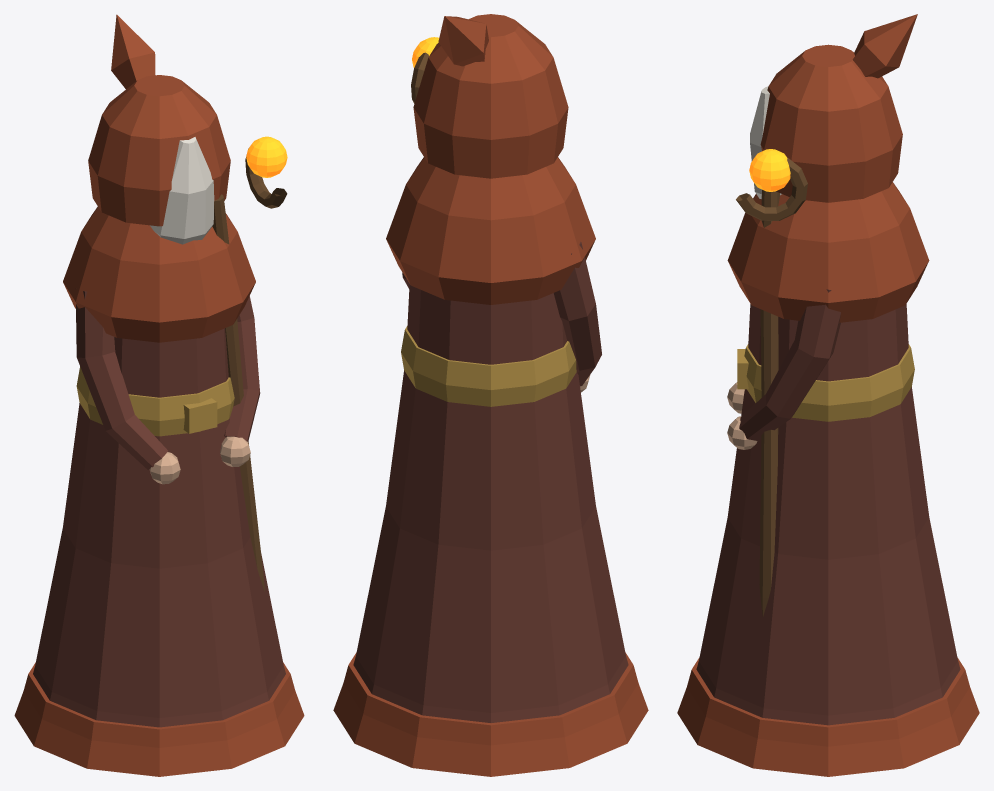
File: elder_village.glb
The picture shows the model from 3 angles, left to right: view 1: azimuth 30°, elevation 25°; view 2: azimuth 150°, elevation 25°; view 3: azimuth 270°, elevation 25°; orthographic projection. The views are drawn at different scales.
Parts seen in each view (by area): view 1: Elder_Robe, Elder_Mantle, Elder_Hem, Elder_Hood, Elder_Arm0, Elder_Beard, Elder_Belt, Elder_Staff, Elder_Arm1, Elder_HoodTip, Elder_Orb, Elder_Buckle (+3 smaller); view 2: Elder_Robe, Elder_Mantle, Elder_Hood, Elder_Hem, Elder_Belt, Elder_Arm0, Elder_HoodTip; view 3: Elder_Robe, Elder_Mantle, Elder_Hood, Elder_Hem, Elder_Arm1, Elder_Belt, Elder_Staff, Elder_HoodTip, Elder_Crook, Elder_Orb, Elder_Beard.
Part boxes in pixels (x1,y1,x2,y2): Elder_Robe: (33, 328, 285, 727); Elder_Mantle: (63, 206, 255, 342); Elder_Hem: (14, 662, 304, 776); Elder_Hood: (88, 75, 230, 226); Elder_Arm0: (75, 288, 167, 469); Elder_Beard: (150, 137, 214, 244); Elder_Belt: (76, 366, 234, 436); Elder_Staff: (212, 194, 264, 591); Elder_Arm1: (224, 296, 260, 442); Elder_HoodTip: (111, 14, 155, 88); Elder_Orb: (246, 136, 287, 177); Elder_Buckle: (183, 398, 217, 433); Elder_Robe: (353, 284, 628, 722); Elder_Mantle: (386, 157, 595, 304); Elder_Hood: (413, 14, 568, 178); Elder_Hem: (333, 652, 648, 776); Elder_Belt: (401, 326, 576, 406); Elder_Arm0: (553, 241, 601, 386); Elder_HoodTip: (438, 16, 488, 66); Elder_Robe: (696, 304, 960, 725); Elder_Mantle: (727, 182, 929, 322); Elder_Hood: (760, 44, 902, 202); Elder_Hem: (677, 657, 979, 776); Elder_Arm1: (739, 289, 840, 441); Elder_Belt: (744, 344, 914, 421); Elder_Staff: (759, 189, 779, 616); Elder_HoodTip: (852, 14, 917, 78); Elder_Crook: (736, 157, 807, 220); Elder_Orb: (749, 149, 790, 191); Elder_Beard: (750, 86, 781, 198).
Size of the model in its own units: 0.63 by 1.61 by 0.63.
